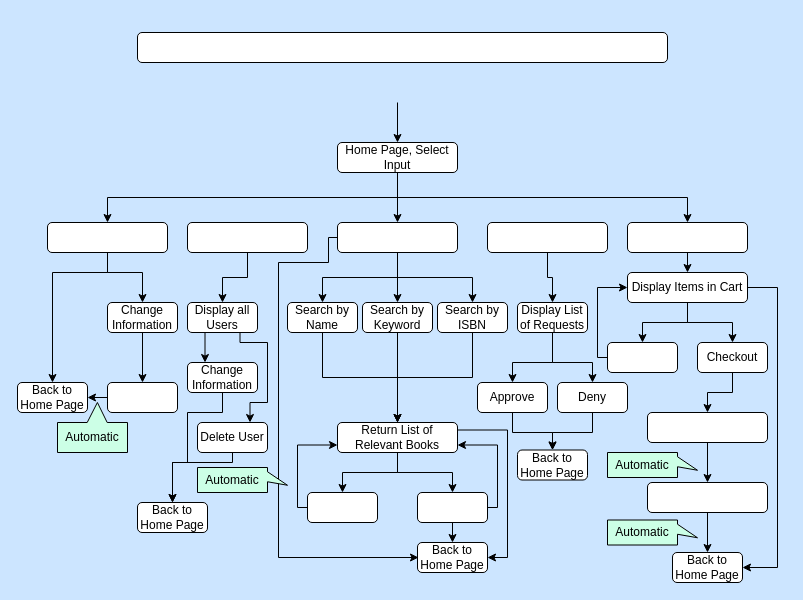
This 803x600 diagram has some shape labels left out. Each missing label, with the box of its shape:
Access Cart: (626, 222, 748, 252)
Account Information: (46, 222, 168, 252)
Activity Diagram: Admin: (136, 32, 668, 62)
Add Book to Cart: (416, 492, 488, 522)
Add Comment: (306, 492, 378, 522)
Enter/Verify Payment Information: (646, 412, 768, 442)
Pending Requests: (486, 222, 608, 252)
Remove Items: (606, 342, 678, 372)
Search for Books: (336, 222, 458, 252)
Update Database: (106, 382, 178, 412)
Update Inventory: (646, 482, 768, 512)
User Information: (186, 222, 308, 252)
